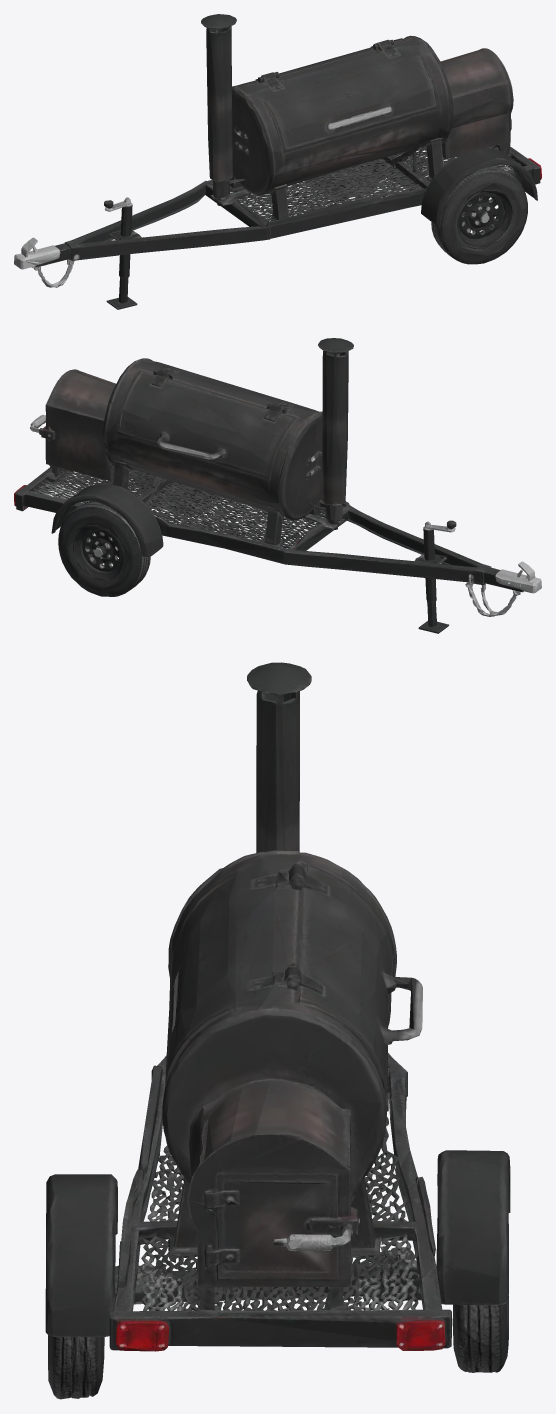
The model's file is trailer.glb.
The picture shows the model from 3 angles, top to bottom: view 1: azimuth 30°, elevation 25°; view 2: azimuth 150°, elevation 25°; view 3: azimuth 270°, elevation 25°; orthographic projection. The views are drawn at different scales.
Parts seen in each view (by area): view 1: Mesh_0; view 2: Mesh_0; view 3: Mesh_0.
Boxes of the visible parts, box(x1,y1,x2,y2) form: Mesh_0: box(14, 14, 541, 309); Mesh_0: box(14, 338, 541, 633); Mesh_0: box(45, 662, 510, 1399).
Bounding box in the file's own units: 1.9 × 0.9703 × 0.7746.
1 material, 1 textured.
